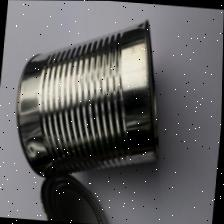metal: (6, 2, 175, 224)
